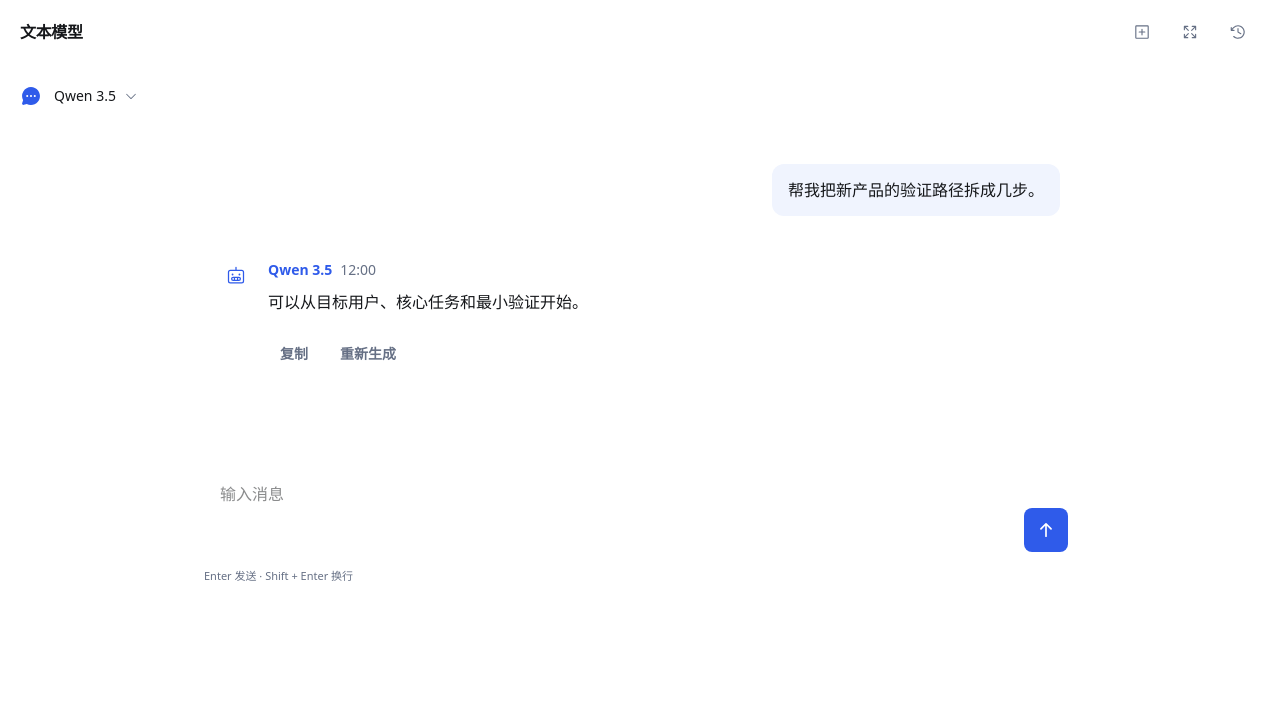
Test case: ChatWorkspace › switches routes without reusing the previous conversation
Expected: the heading "文本模型" is shown, [20,21,83,43]
Click the button named "打开会话列表" at point(1238, 32), box [1216,10,1260,54]
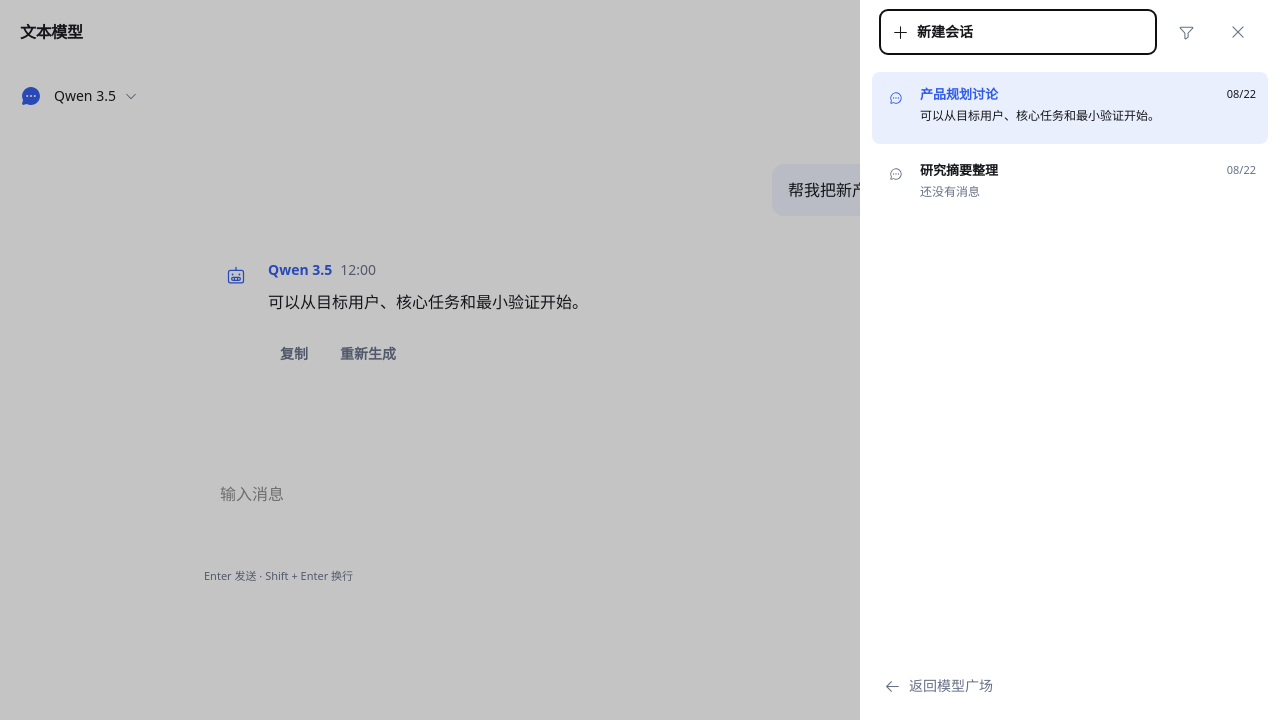
Click the button "研究摘要整理 还没有消息 08/22" at point(959, 170), box [872,148,1268,220]
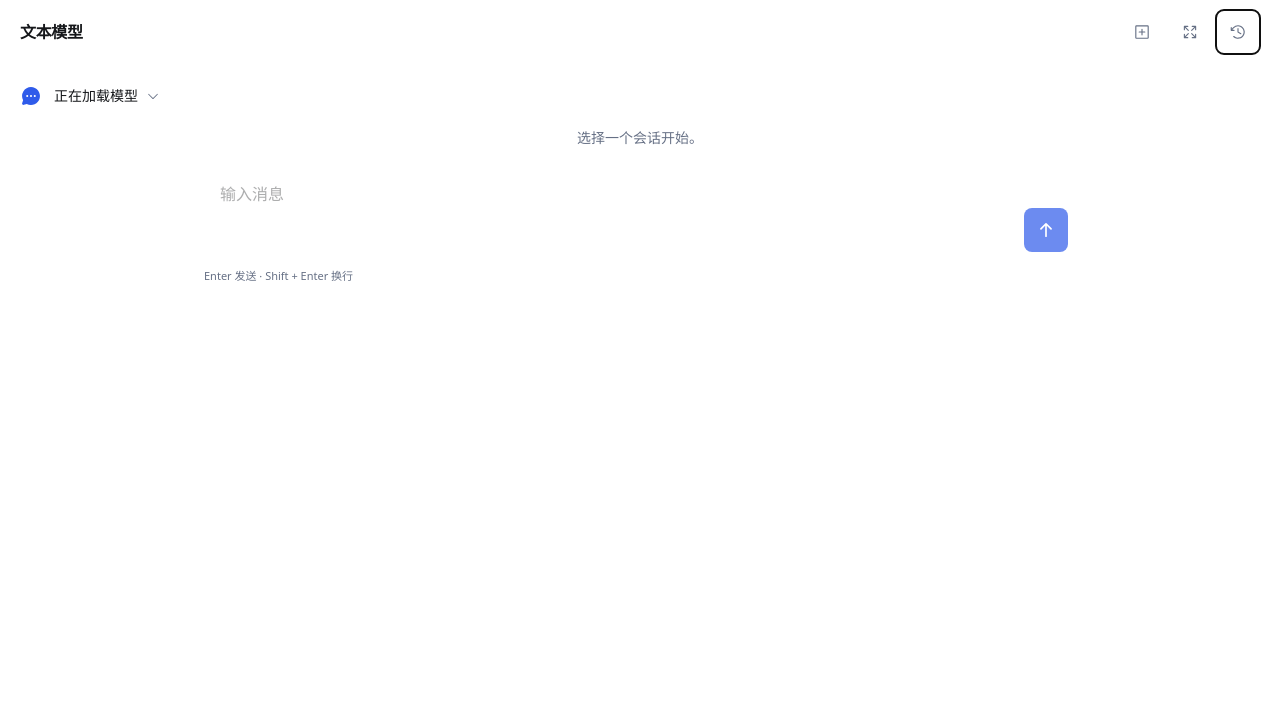
Now the text "帮我把新产品的验证路径拆成几步。" is gone
